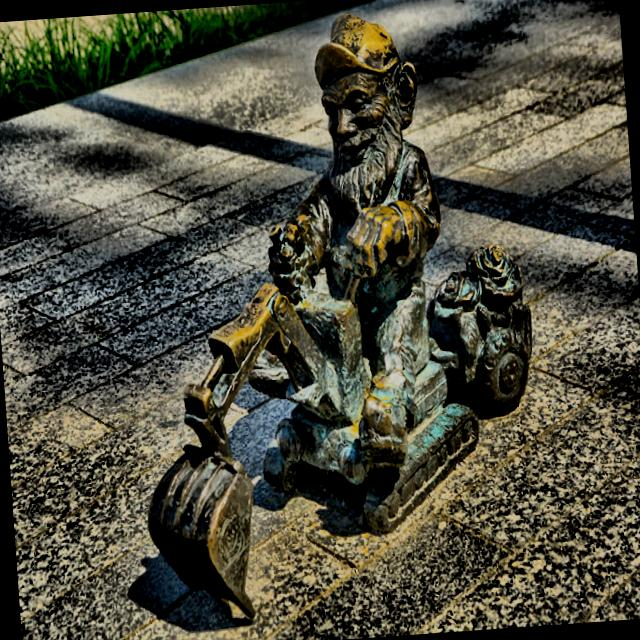Koparkus: (148, 13, 531, 616)
